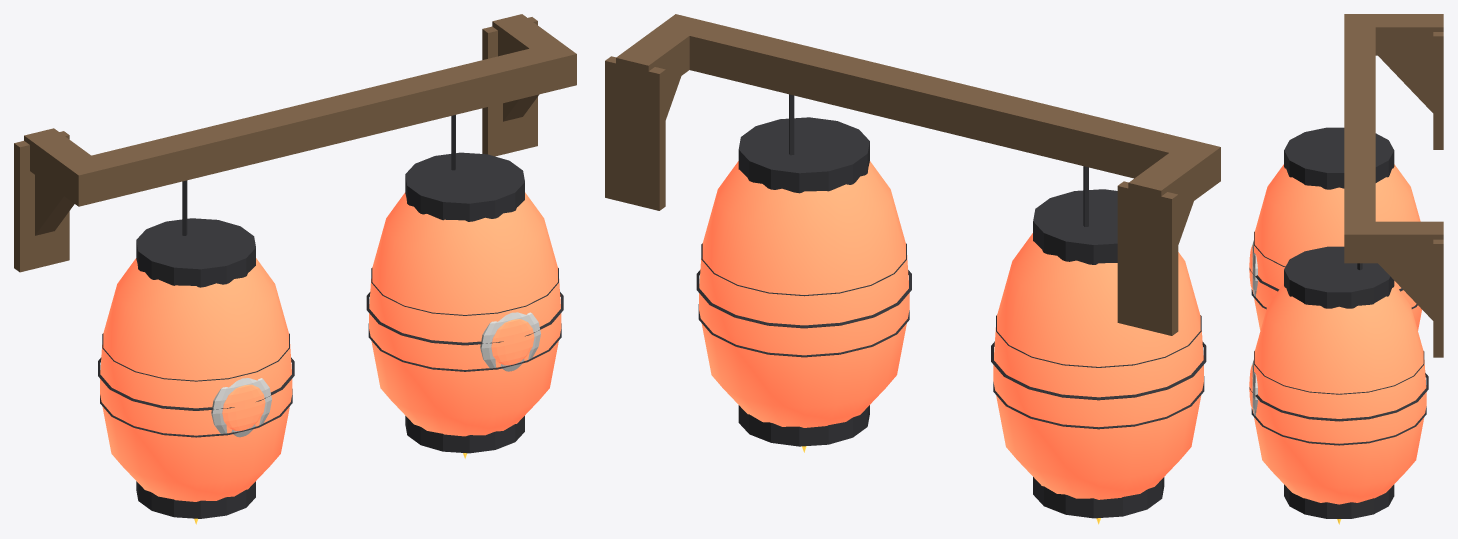
The model's file is jp_lanterns.glb.
The picture shows the model from 3 angles, left to right: view 1: azimuth 30°, elevation 25°; view 2: azimuth 150°, elevation 25°; view 3: azimuth 270°, elevation 25°; orthographic projection. The views are drawn at different scales.
Parts seen in each view (by area): view 1: jp_lanterns; view 2: jp_lanterns; view 3: jp_lanterns.
Boxes of the visible parts, bbox=[...] form: jp_lanterns: bbox=[14, 14, 576, 524]; jp_lanterns: bbox=[605, 14, 1220, 524]; jp_lanterns: bbox=[1249, 14, 1443, 524].
Bounding box in the file's own units: 1.04 × 0.72 × 0.372.
